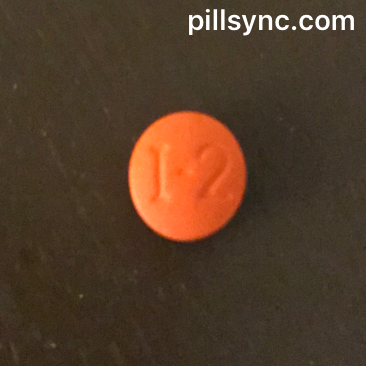Ibuprofen 200 MG Oral Tablet: (124, 105, 251, 247)
